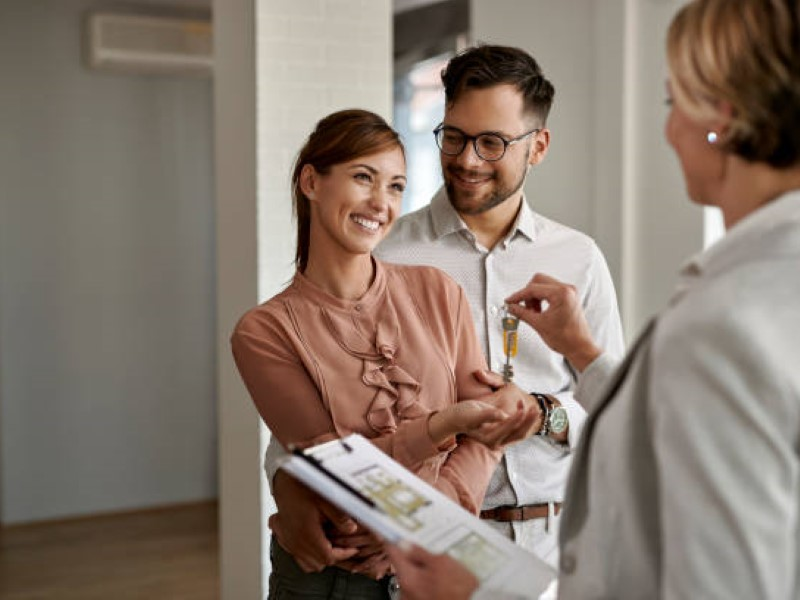key: (497, 311, 521, 385)
